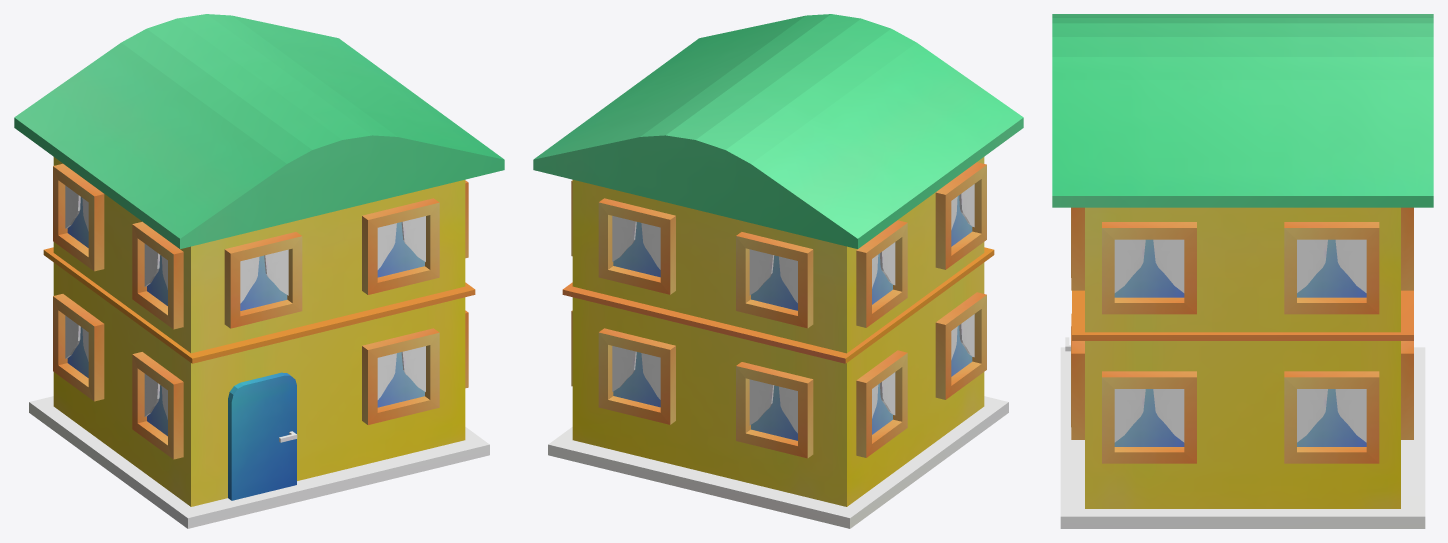
File: House_11.glb
3 renders of one model, left to right at view 1: azimuth 30°, elevation 25°; view 2: azimuth 150°, elevation 25°; view 3: azimuth 270°, elevation 25°, orthographic. The views are drawn at different scales.
Visible parts, largest first — view 1: House_11; view 2: House_11; view 3: House_11.
Boxes of the visible parts, <box> form: House_11: <box>14,14,504,528</box>; House_11: <box>533,14,1023,528</box>; House_11: <box>1052,14,1433,528</box>.
Bounding box in the file's own units: 813 × 849 × 720.
1 material, 1 textured.
